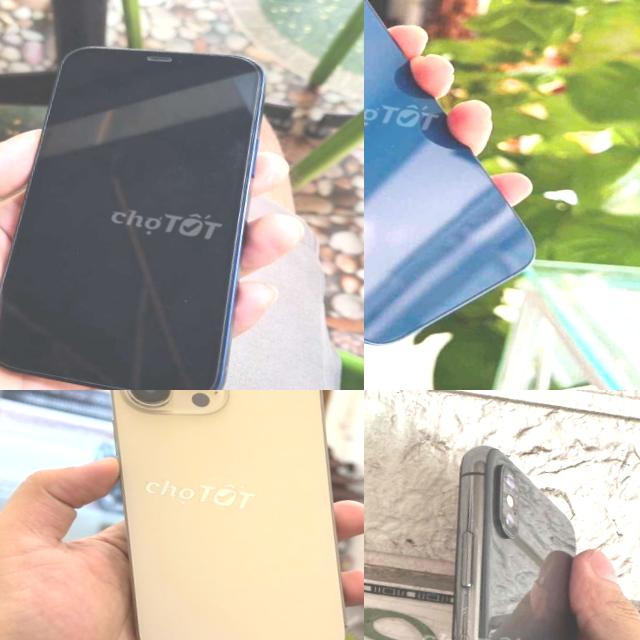gen_12_13: (0, 15, 281, 390), (364, 0, 582, 370)
gen_14: (57, 390, 364, 640)
gen_x_xs: (364, 437, 640, 640)
scratch: (437, 583, 496, 640)
